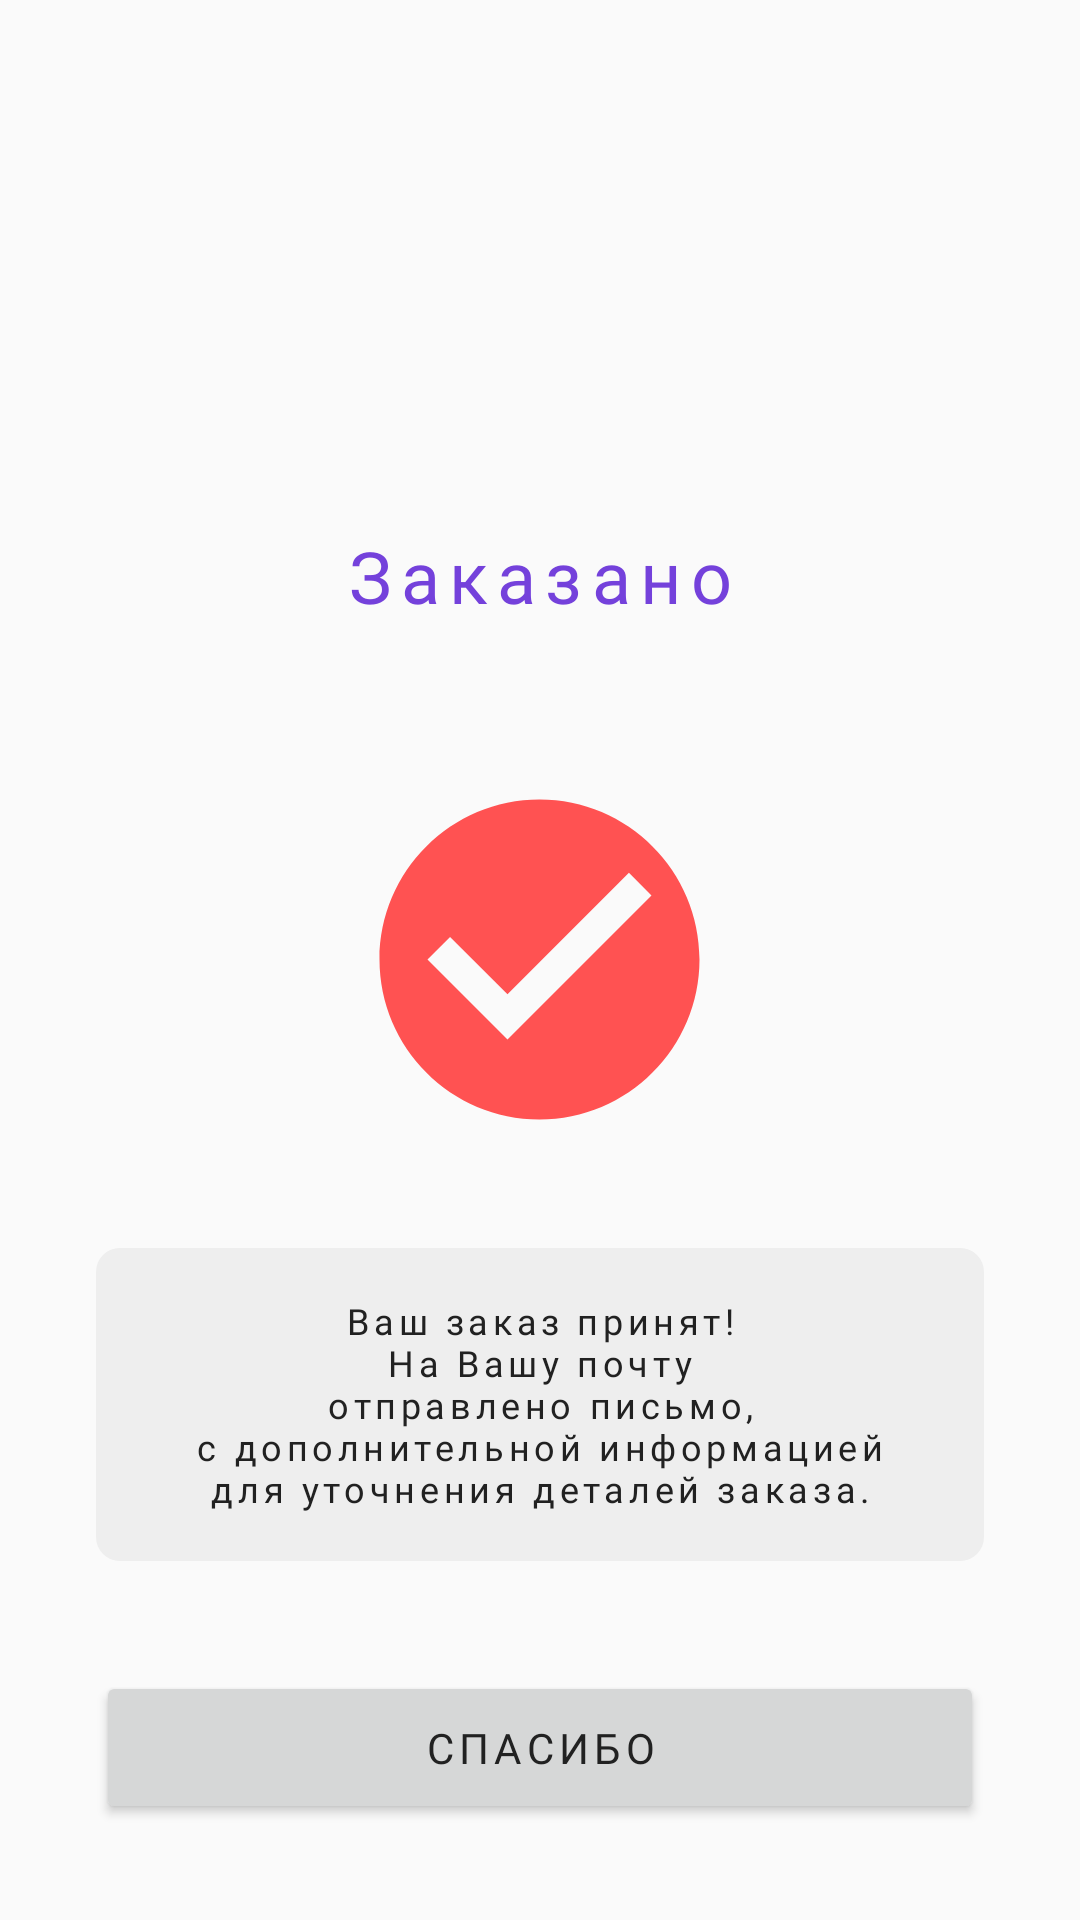

Where icons sit on this 1080w x 1920h app screen, as bbox=(x1, y1, x2, y2):
true: bbox=(379, 799, 700, 1120)
